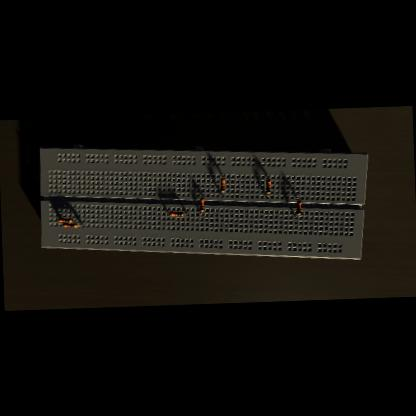breadboard: (37, 134, 371, 270)
resistor: (62, 222, 77, 228), (57, 217, 72, 223), (169, 210, 183, 216), (295, 200, 301, 214), (198, 197, 204, 211), (265, 179, 270, 193), (219, 178, 224, 192)
wire: (294, 214, 298, 218), (76, 225, 83, 226), (72, 220, 79, 221), (200, 211, 202, 214), (295, 198, 298, 200), (265, 194, 268, 196), (183, 213, 187, 214), (266, 177, 268, 179), (221, 192, 222, 195), (166, 213, 168, 214), (201, 195, 202, 197)
